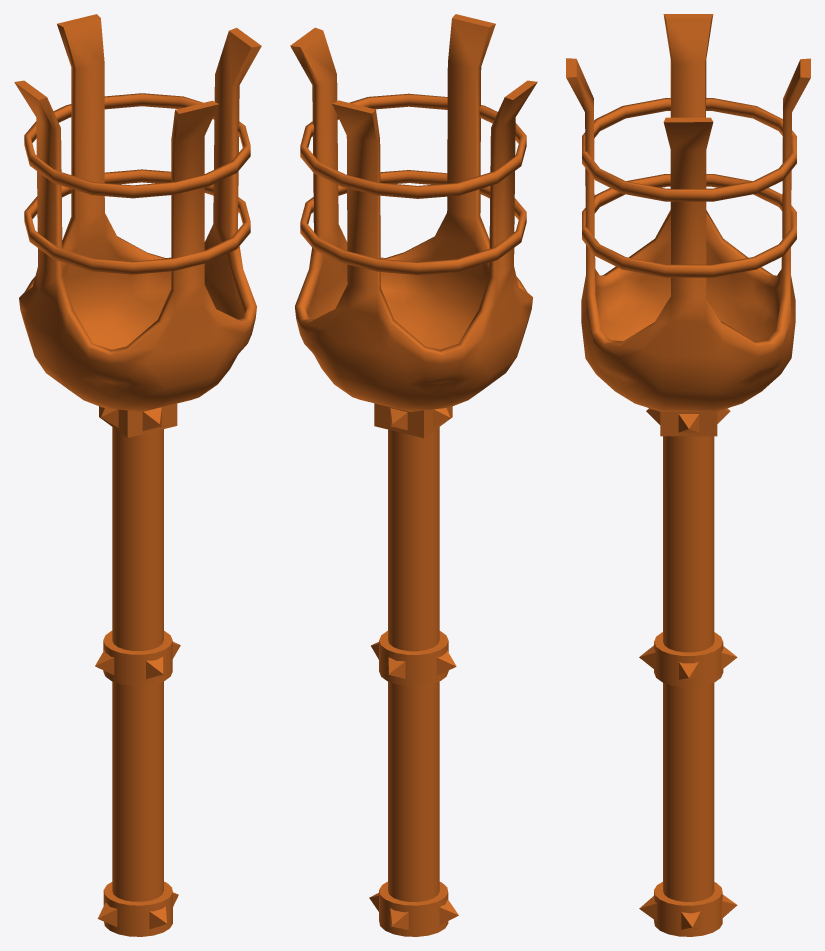
The model's file is Mashal.obj.
The picture shows the model from 3 angles, left to right: view 1: azimuth 30°, elevation 25°; view 2: azimuth 150°, elevation 25°; view 3: azimuth 270°, elevation 25°; orthographic projection.
Visible parts, largest first — view 1: torch; view 2: torch; view 3: torch.
Boxes of the visible parts, box(x1,y1,x2,y2) form: torch: box(14, 14, 261, 936); torch: box(290, 14, 537, 936); torch: box(566, 14, 810, 936).
Size of the model in its own units: 12.53 by 46.12 by 11.98.
